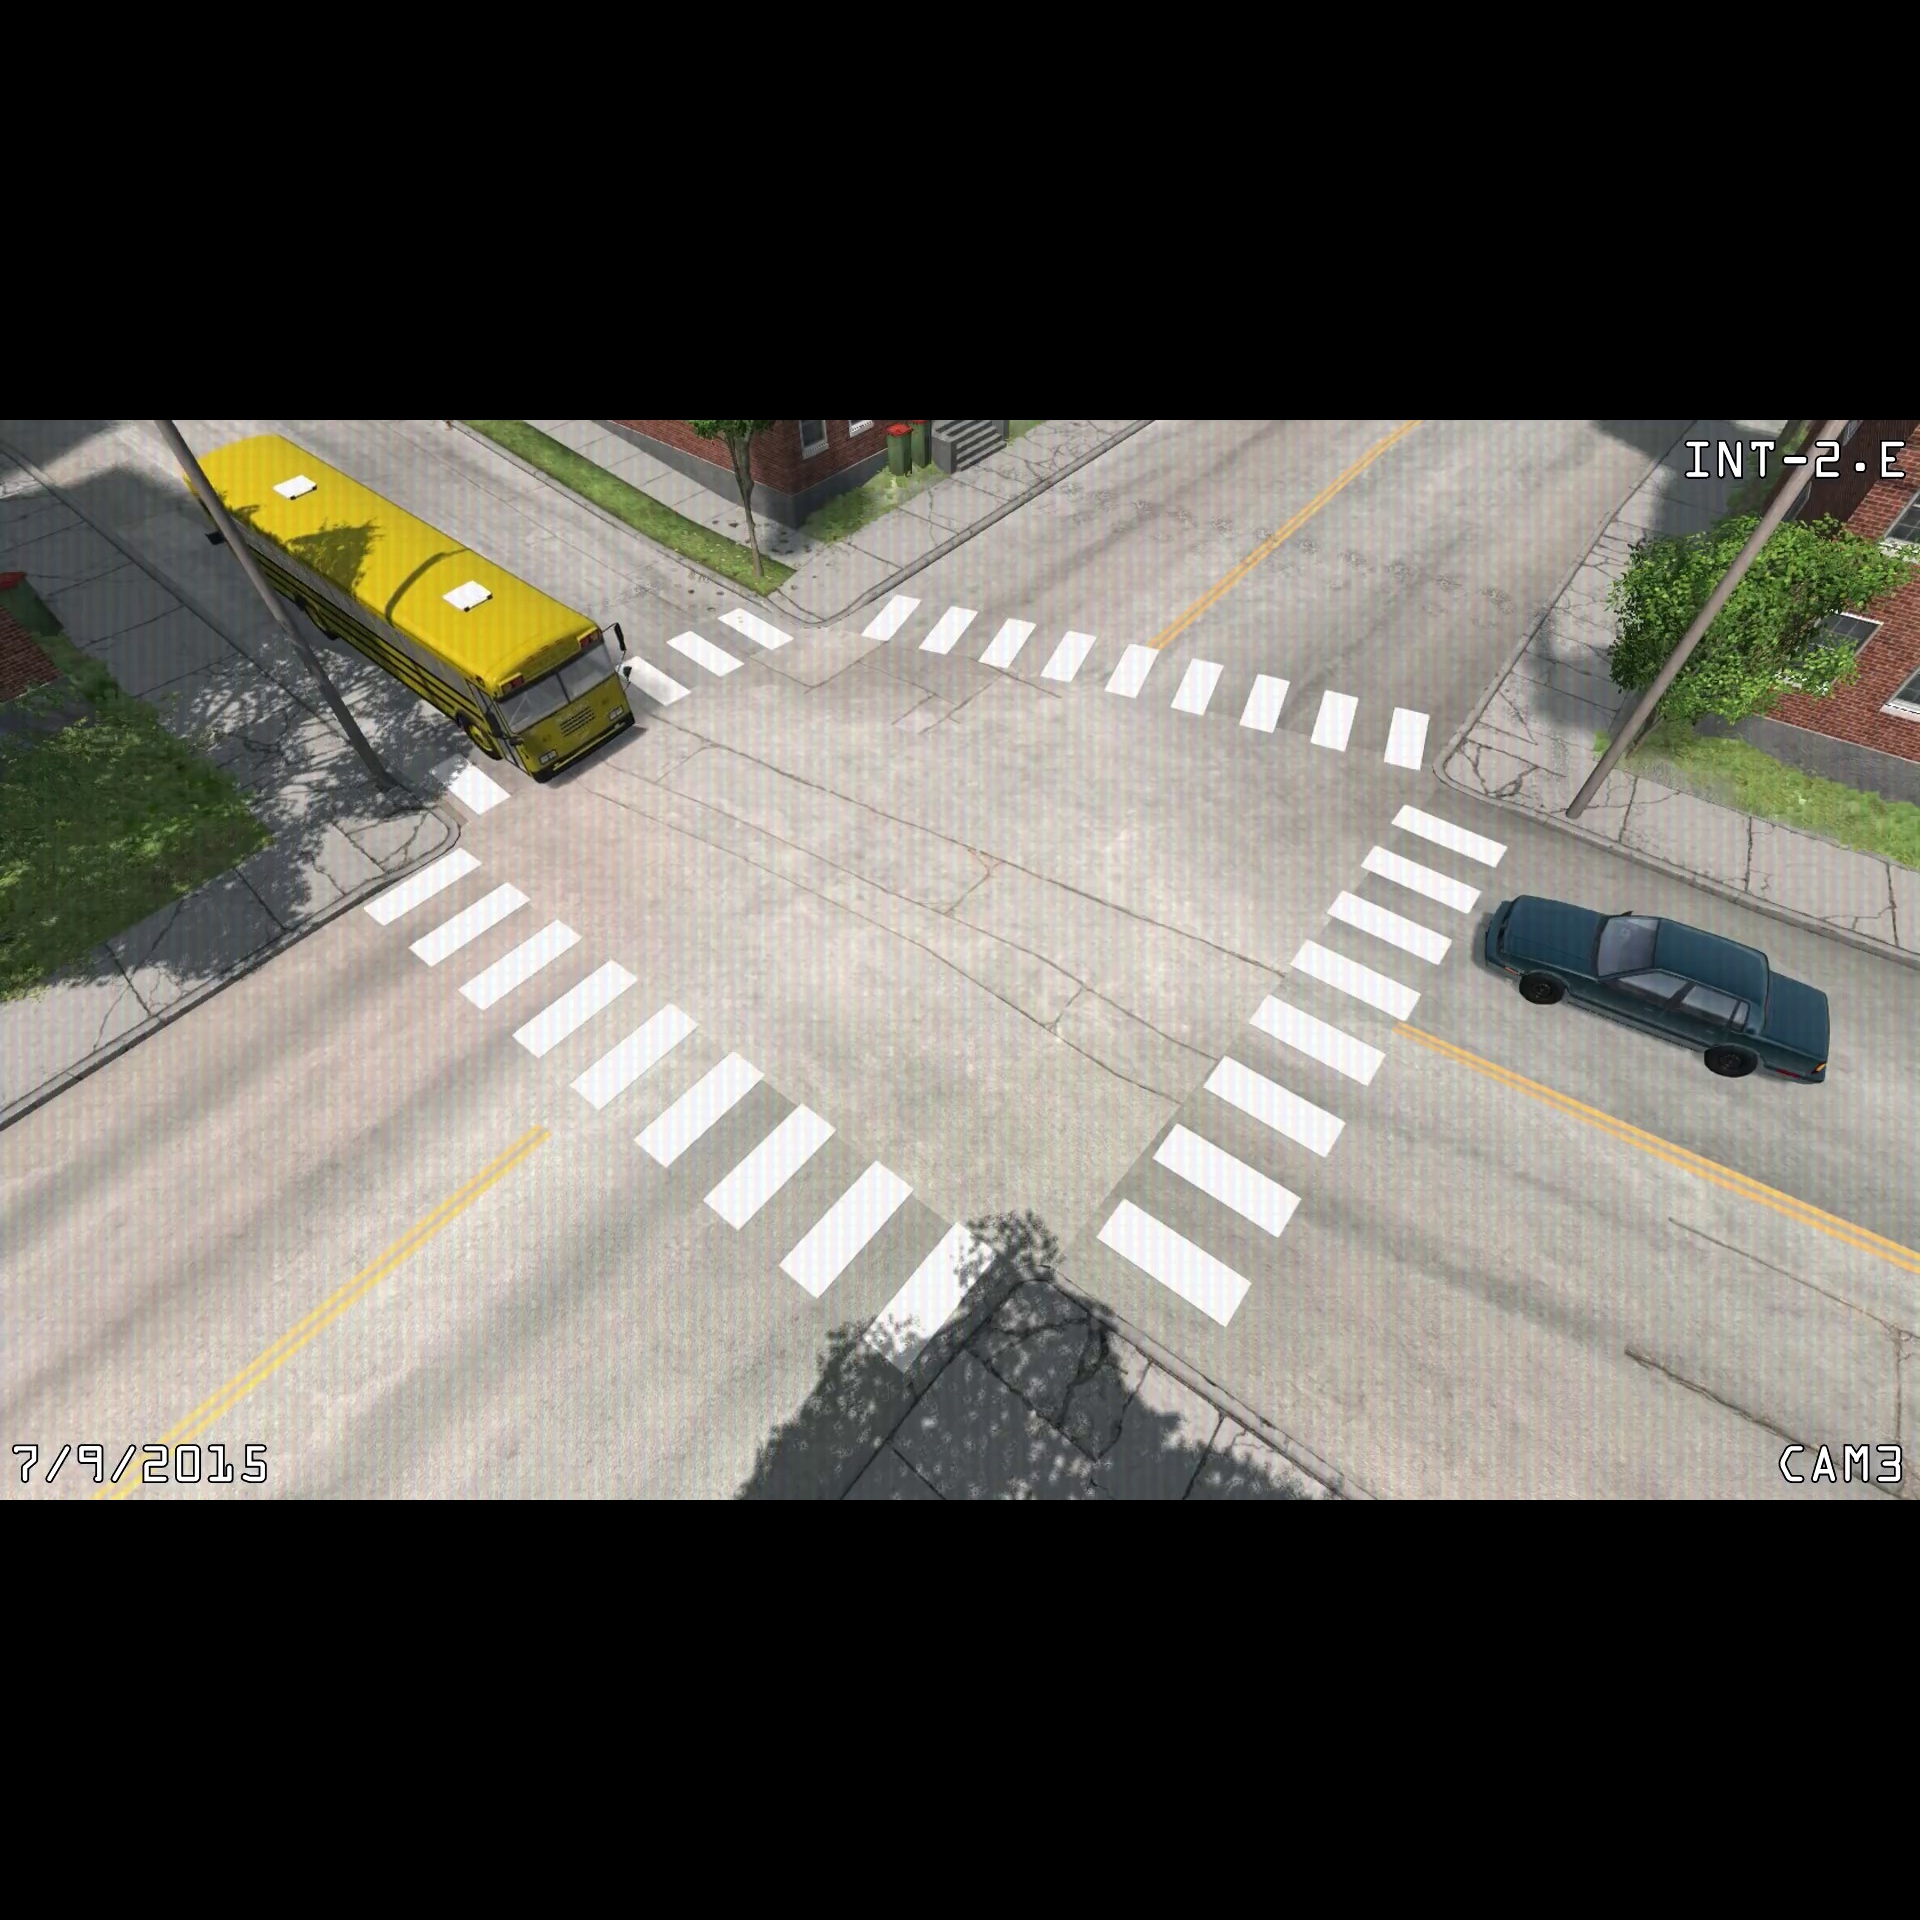vehicle: (181, 424, 652, 795), (1470, 877, 1844, 1097)
